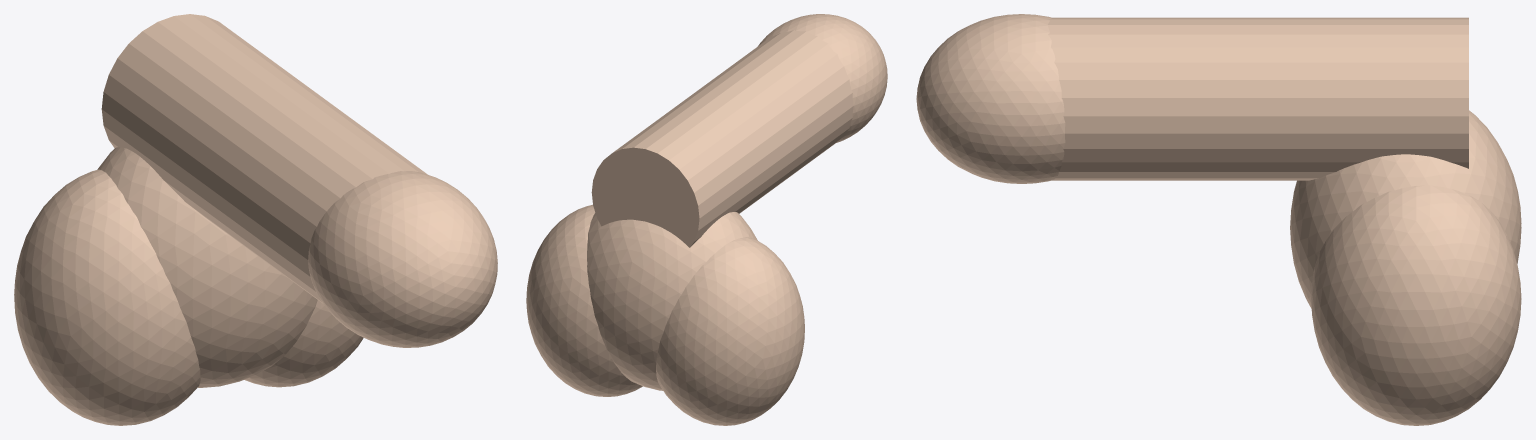
File: penis_testes_v1.glb
The picture shows the model from 3 angles, left to right: view 1: azimuth 30°, elevation 25°; view 2: azimuth 150°, elevation 25°; view 3: azimuth 270°, elevation 25°; orthographic projection. The views are drawn at different scales.
Visible parts, largest first — view 1: shaft, testis_L, glans, scrotum, testis_R; view 2: shaft, testis_L, scrotum, testis_R, glans; view 3: shaft, testis_R, glans, scrotum.
Part boxes in pixels (<box>): shaft: <box>101,14,427,303</box>; testis_L: <box>14,169,200,425</box>; glans: <box>308,171,497,347</box>; scrotum: <box>97,147,317,387</box>; testis_R: <box>244,300,363,387</box>; shaft: <box>591,30,853,247</box>; testis_L: <box>656,237,804,425</box>; scrotum: <box>587,212,757,390</box>; testis_R: <box>526,204,642,396</box>; glans: <box>758,14,887,142</box>; shaft: <box>1047,17,1468,180</box>; testis_R: <box>1311,185,1521,425</box>; glans: <box>916,14,1065,183</box>; scrotum: <box>1290,110,1521,308</box>.
Bounding box in the file's own units: 0.074 × 0.075 × 0.115.
